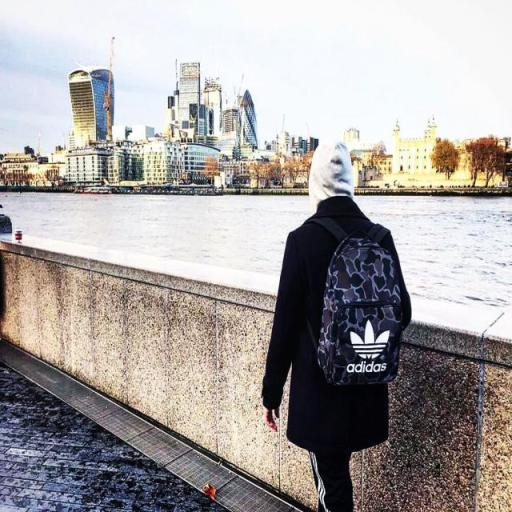Adidas: (343, 317, 392, 374)
